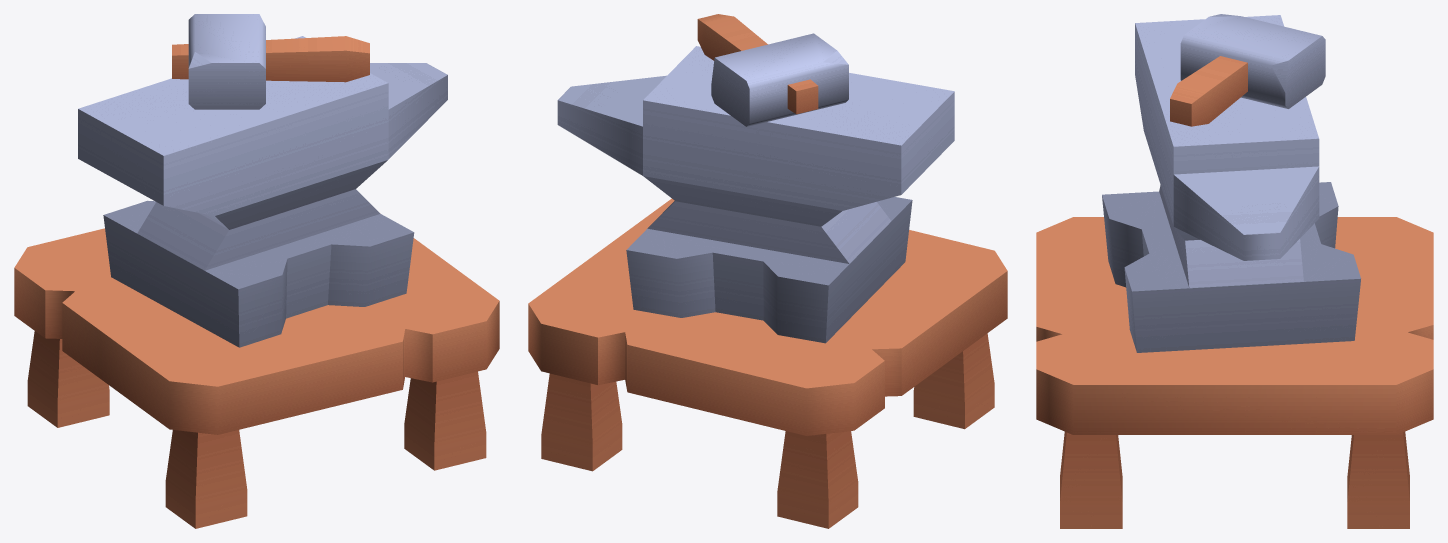
Rendered from workbench-anvil.glb.
3 views of the same model, side by side, from view 1: azimuth 30°, elevation 25°; view 2: azimuth 150°, elevation 25°; view 3: azimuth 270°, elevation 25° (orthographic). The views are drawn at different scales.
Visible parts, largest first — view 1: workbench-anvil, workbench-anvil.001; view 2: workbench-anvil, workbench-anvil.001; view 3: workbench-anvil, workbench-anvil.001.
Boxes of the visible parts, <box> form: workbench-anvil: <box>14,36,499,528</box>; workbench-anvil.001: <box>172,14,369,109</box>; workbench-anvil: <box>528,46,1007,528</box>; workbench-anvil.001: <box>697,14,848,126</box>; workbench-anvil: <box>1036,15,1433,528</box>; workbench-anvil.001: <box>1170,14,1325,126</box>.
Bounding box in the file's own units: 1.63 × 1.69 × 1.49.
1 material, 1 textured.
